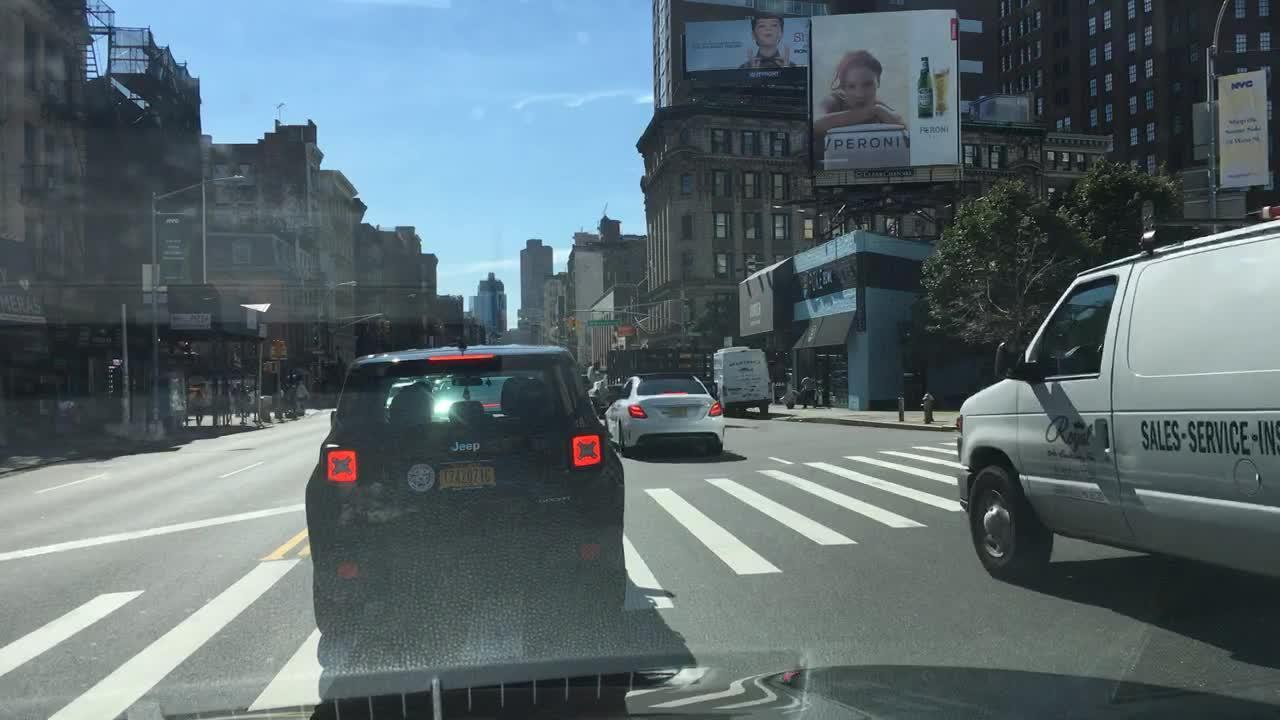jeep: (442, 434, 494, 463)
